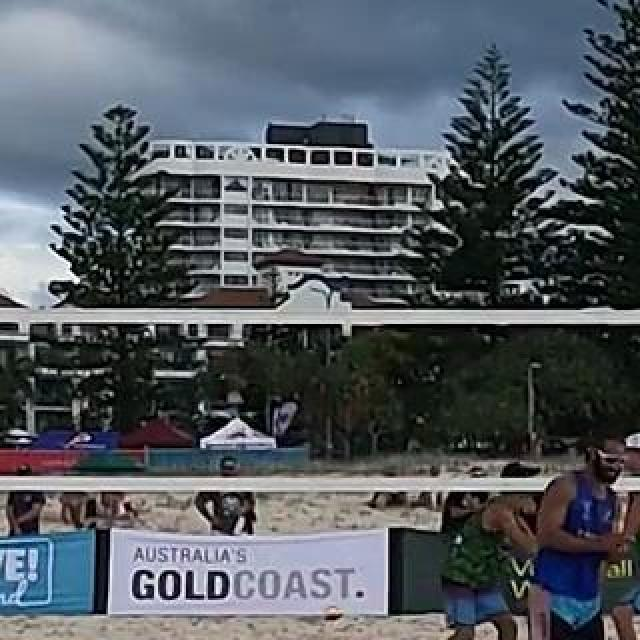volleyball: (322, 603, 344, 623)
